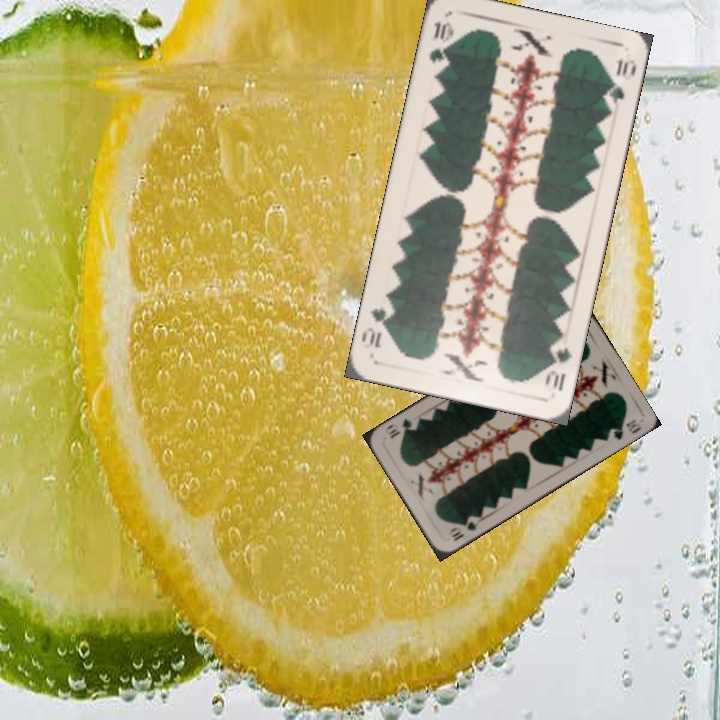G10: (425, 18, 456, 74), (540, 343, 574, 394), (447, 516, 482, 544)
